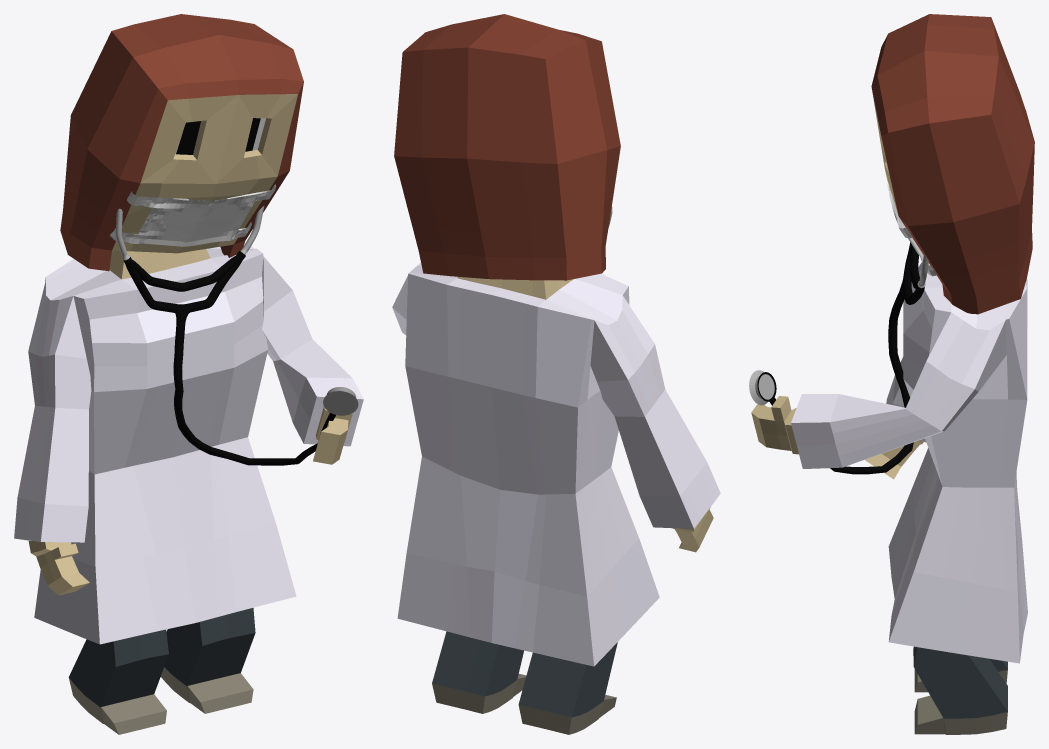
File: StatueFemale.fbx
3 views of the same model, side by side, from view 1: azimuth 30°, elevation 25°; view 2: azimuth 150°, elevation 25°; view 3: azimuth 270°, elevation 25° (orthographic).
Parts seen in each view (by area): view 1: female, stethoscope; view 2: female; view 3: female, stethoscope.
Part boxes in pixels (bbox=[...]): female: bbox=[14, 14, 363, 734]; stethoscope: bbox=[116, 206, 358, 465]; female: bbox=[392, 14, 720, 734]; female: bbox=[751, 14, 1034, 734]; stethoscope: bbox=[749, 242, 928, 474].
Bounding box in the file's own units: 3.34 × 2.84 × 7.35.
